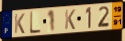1: (46, 9, 56, 33), (85, 6, 93, 30)
2: (98, 5, 111, 29)
K: (64, 9, 76, 31), (14, 13, 26, 35)
L: (29, 11, 42, 36)
